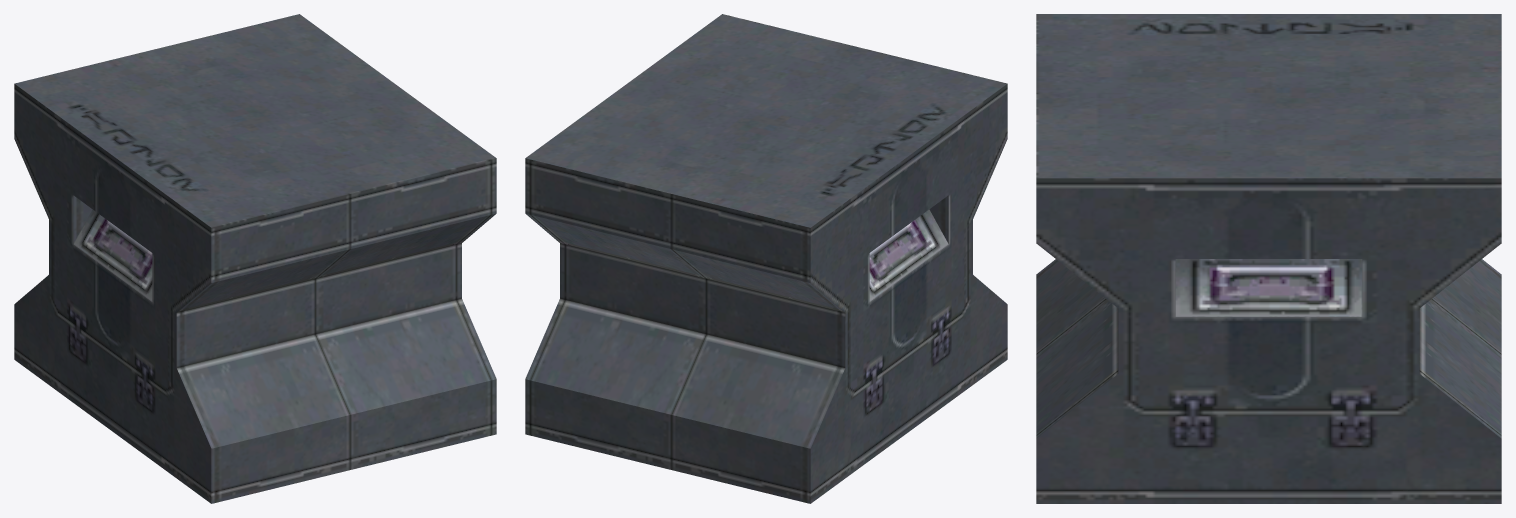
Rendered from con_gen_inorganic_gas_lg_l0.fbx.
The picture shows the model from 3 angles, left to right: view 1: azimuth 30°, elevation 25°; view 2: azimuth 150°, elevation 25°; view 3: azimuth 270°, elevation 25°; orthographic projection. The views are drawn at different scales.
Visible parts, largest first — view 1: mesh_node; view 2: mesh_node; view 3: mesh_node.
Boxes of the visible parts, x1,y1,x2,y2 form: mesh_node: (14, 14, 496, 503); mesh_node: (525, 14, 1007, 503); mesh_node: (1036, 14, 1501, 503).
Bounding box in the file's own units: 0.7725 × 0.7143 × 0.9249.
